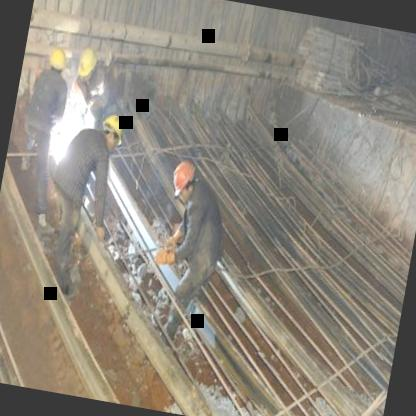helmet: (95, 109, 130, 159), (167, 156, 202, 203), (72, 44, 102, 90), (44, 43, 71, 80)
